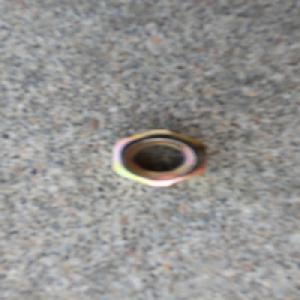Nut: (109, 128, 209, 189)
